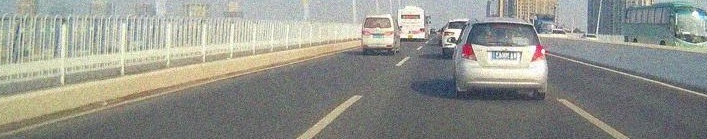L_light: (460, 43, 477, 62), (362, 31, 371, 36)
R_light: (530, 44, 546, 62), (384, 31, 394, 35)
T_light: (496, 23, 509, 26), (375, 17, 381, 20)
day-no: (361, 14, 395, 54)
day-right: (456, 17, 547, 99)
